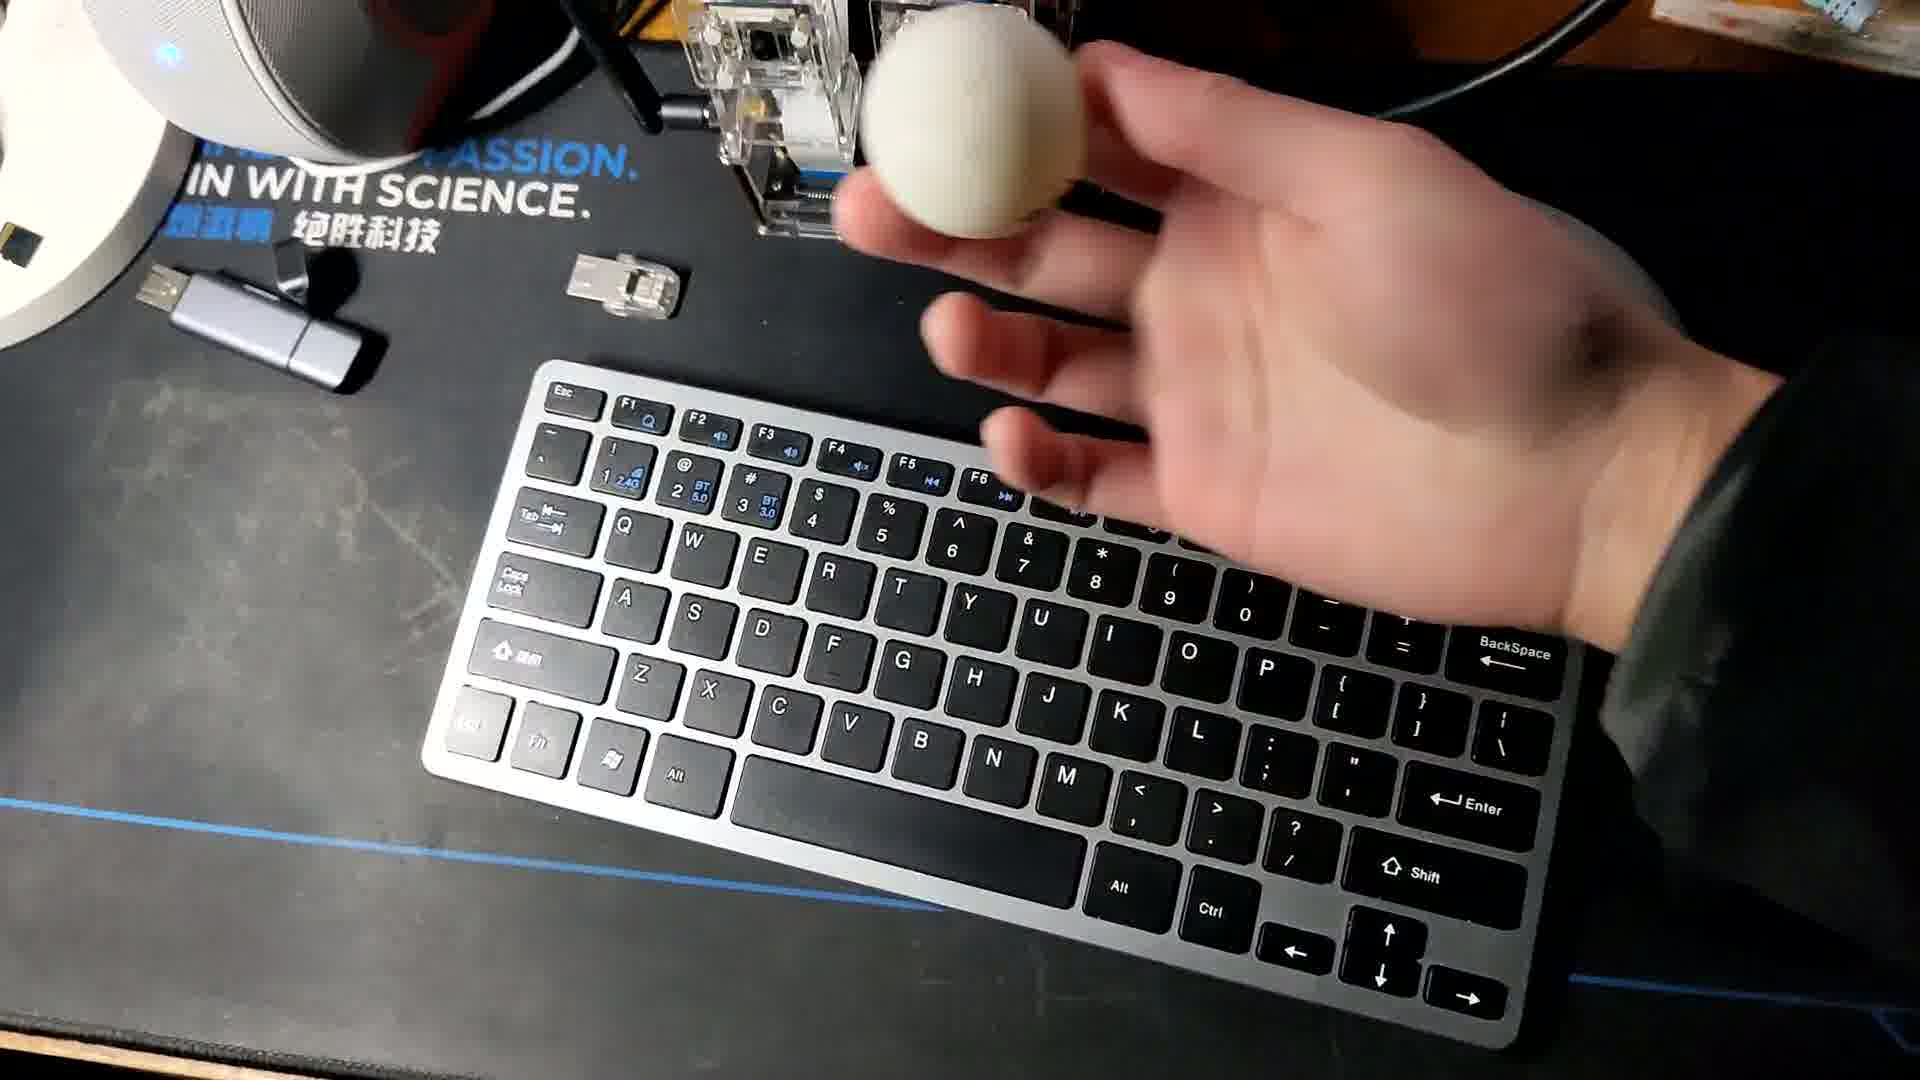Ball: (849, 8, 1095, 244)
